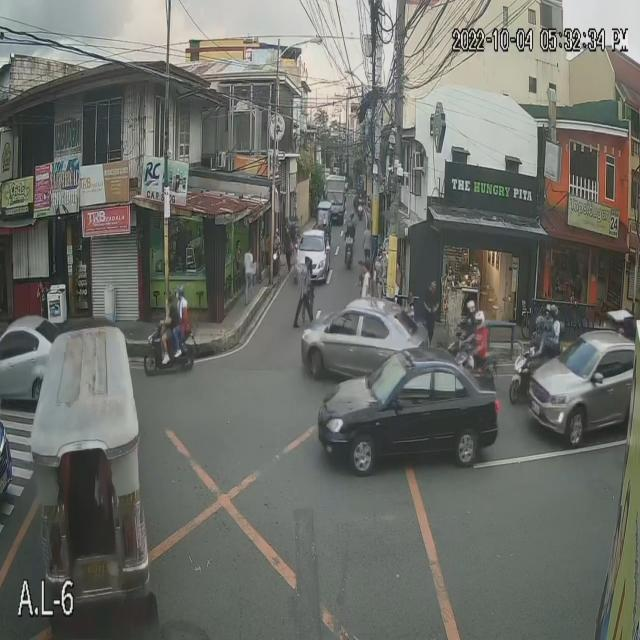Full-Faced: (462, 296, 478, 318), (173, 278, 188, 300), (164, 284, 177, 308), (474, 306, 486, 330), (549, 300, 560, 320), (544, 300, 554, 321), (348, 209, 357, 228)
